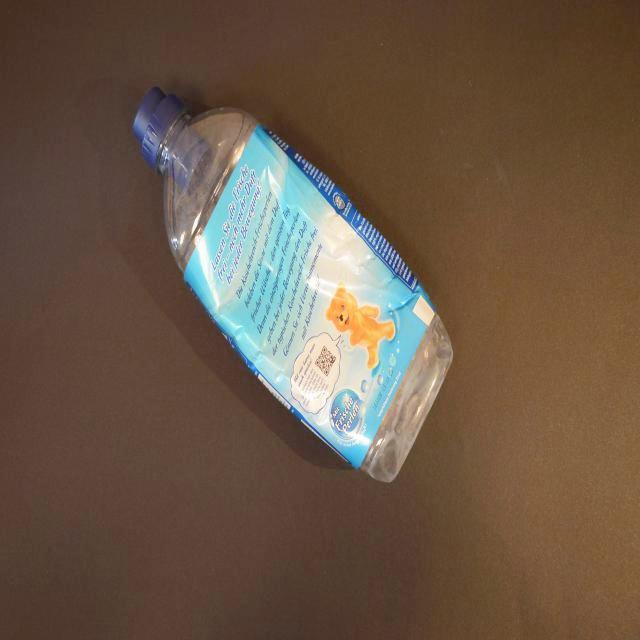bottle: (133, 86, 454, 483)
